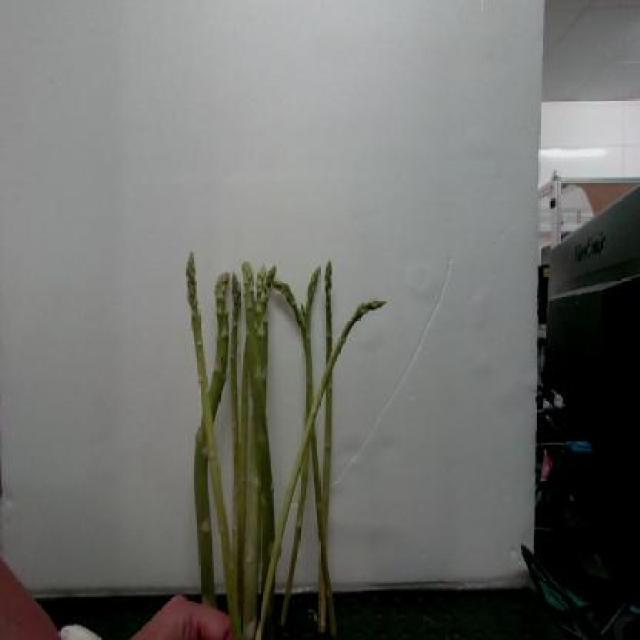aspargus: (254, 301, 388, 640), (186, 249, 243, 640)
